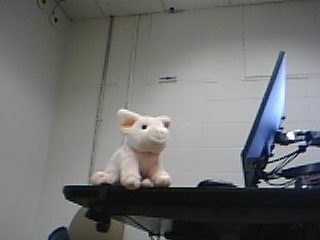piggy: (90, 107, 175, 190)
